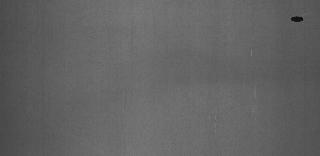punching hole: (289, 15, 305, 23)
